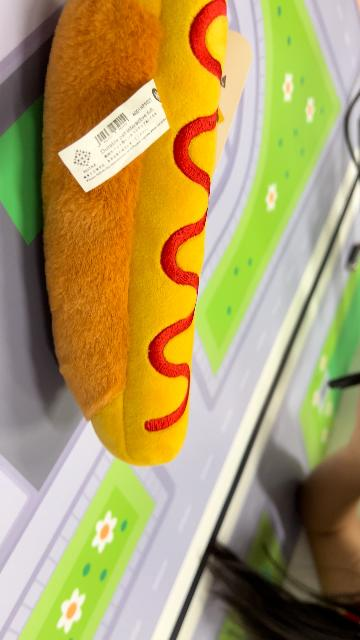hotdog: (40, 2, 230, 468)
